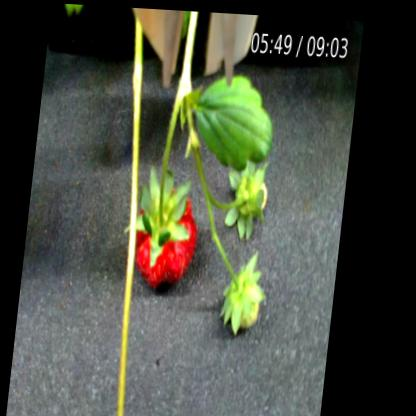ripe: (135, 192, 209, 288)
